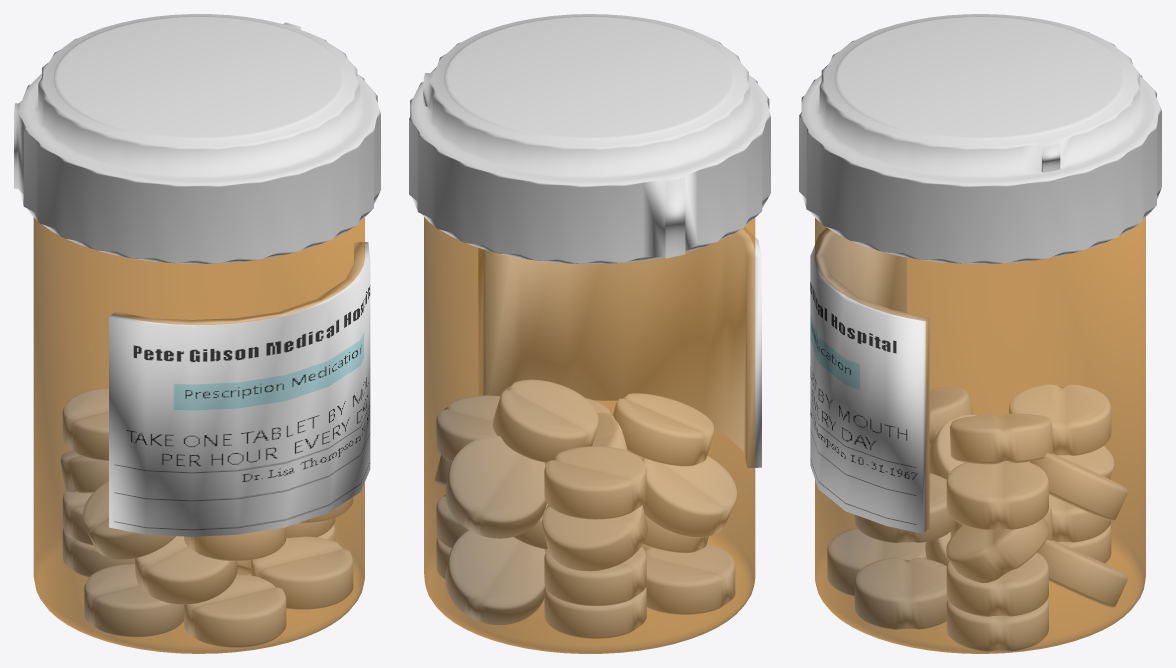
Rendered from pillBottle.fbx.
3 renders of one model, left to right at view 1: azimuth 30°, elevation 25°; view 2: azimuth 150°, elevation 25°; view 3: azimuth 270°, elevation 25°, orthographic.
Visible parts, largest first — view 1: Cap, Bottle, Label, Pill.001, Pill.005, Pill, Pill.003, Pill.021, Pill.011, Pill.012, Pill.018, Pill.007 (+2 smaller); view 2: Bottle, Cap, Label, Pill.017, Pill.006, Pill.019, Pill.021, Pill.011, Pill.014, Pill, Pill.018, Pill.010 (+5 smaller); view 3: Bottle, Cap, Label, Pill.020, Pill.005, Pill.021, Pill.019, Pill.009, Pill.015, Pill.004, Pill.017, Pill.006 (+8 smaller).
Part boxes in pixels (x1,y1,x2,y2): Cap: (14, 14, 380, 263); Bottle: (33, 217, 364, 653); Label: (109, 242, 370, 536); Pill.001: (184, 574, 286, 647); Pill.005: (251, 536, 353, 609); Pill: (84, 564, 183, 637); Pill.003: (134, 536, 237, 604); Pill.021: (62, 387, 108, 460); Pill.011: (83, 480, 175, 559); Pill.012: (184, 527, 286, 560); Pill.018: (60, 450, 108, 493); Pill.007: (62, 529, 134, 577); Bottle: (424, 217, 755, 653); Cap: (409, 14, 770, 263); Label: (478, 228, 761, 468); Pill.017: (445, 436, 546, 538); Pill.006: (445, 530, 545, 624); Pill.019: (492, 379, 598, 462); Pill.021: (544, 446, 646, 519); Pill.011: (642, 456, 736, 537); Pill.014: (613, 393, 714, 466); Pill: (645, 544, 735, 614); Pill.018: (542, 505, 647, 571); Pill.010: (544, 546, 646, 605); Bottle: (815, 217, 1145, 653); Cap: (799, 14, 1161, 263); Label: (810, 228, 929, 533); Pill.020: (946, 461, 1048, 530); Pill.005: (854, 557, 947, 629); Pill.021: (1009, 384, 1111, 455); Pill.019: (950, 413, 1052, 464); Pill.009: (946, 552, 1048, 616); Pill.015: (946, 518, 1048, 582); Pill.004: (946, 599, 1048, 651); Pill.017: (1030, 453, 1127, 520); Pill.006: (1037, 540, 1127, 607).
Size of the model in its own units: 219 by 340 by 219.
